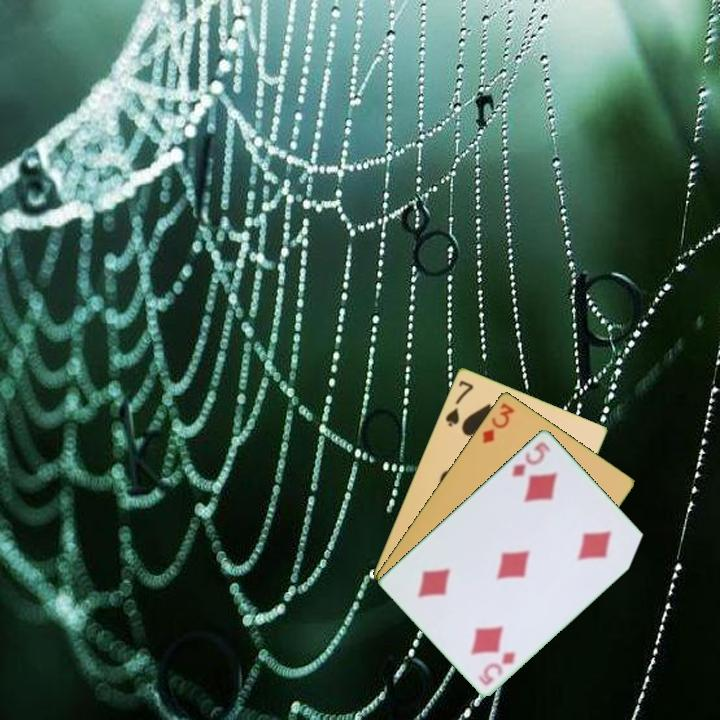3d: (479, 399, 517, 446)
5d: (508, 437, 554, 480), (475, 647, 518, 688)
7s: (442, 376, 476, 429)
